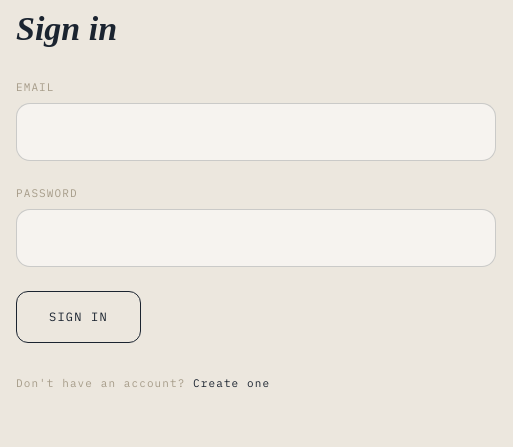
Test: LoginView › shows the generic error and stays on /login when login fails
The width and height of the screenshot is (513, 447).
In the field with id "email": (256, 132) 16,103 -> 496,161, type "user@example.com"
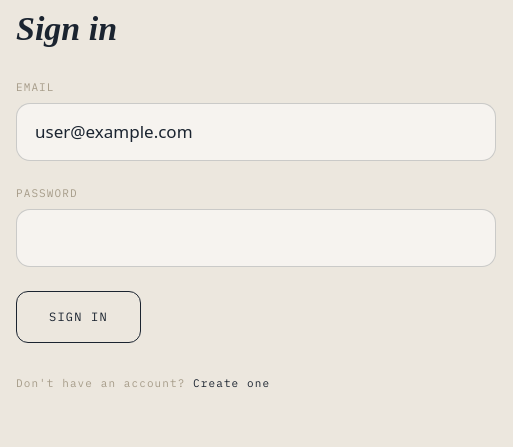
In the password field labelled "Password": (256, 238) 16,209 -> 496,267, type "wrong-password"
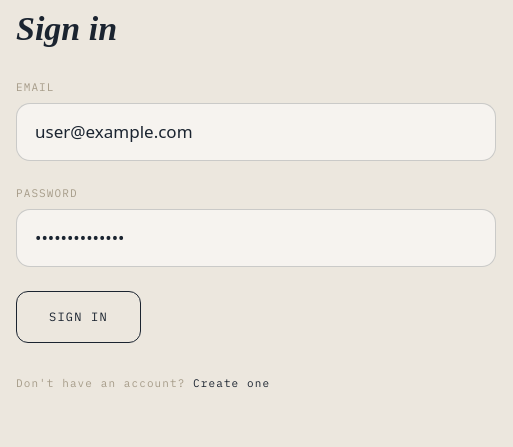
Submit the form, box 16,79 -> 496,343
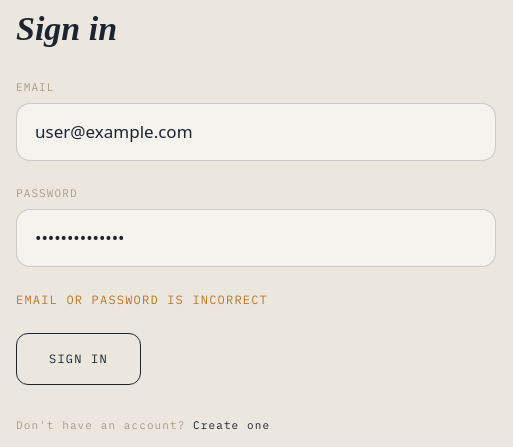
Result: the text "Email or password is incorrect" is shown at 16,292 -> 268,307
